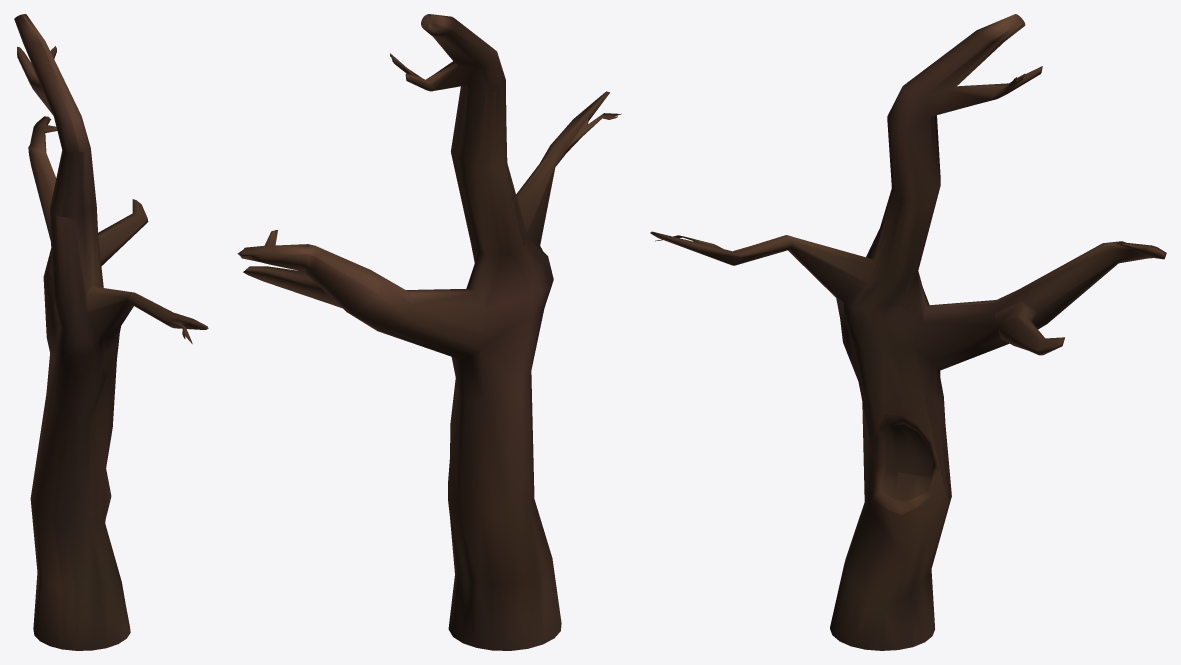
Rendered from tree.fbx.
3 renders of one model, left to right at view 1: azimuth 30°, elevation 25°; view 2: azimuth 150°, elevation 25°; view 3: azimuth 270°, elevation 25°, orthographic. The views are drawn at different scales.
Parts seen in each view (by area): view 1: pCylinder1; view 2: pCylinder1; view 3: pCylinder1.
Part boxes in pixels (bbox=[...]): pCylinder1: bbox=[14, 14, 208, 650]; pCylinder1: bbox=[237, 14, 621, 650]; pCylinder1: bbox=[650, 14, 1166, 650].
Size of the model in its own units: 575 by 1706 by 1297.
